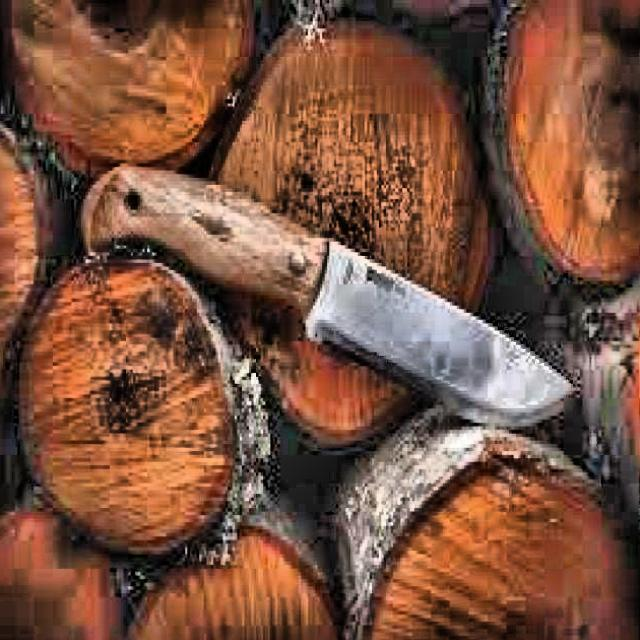knife: (80, 166, 575, 433)
